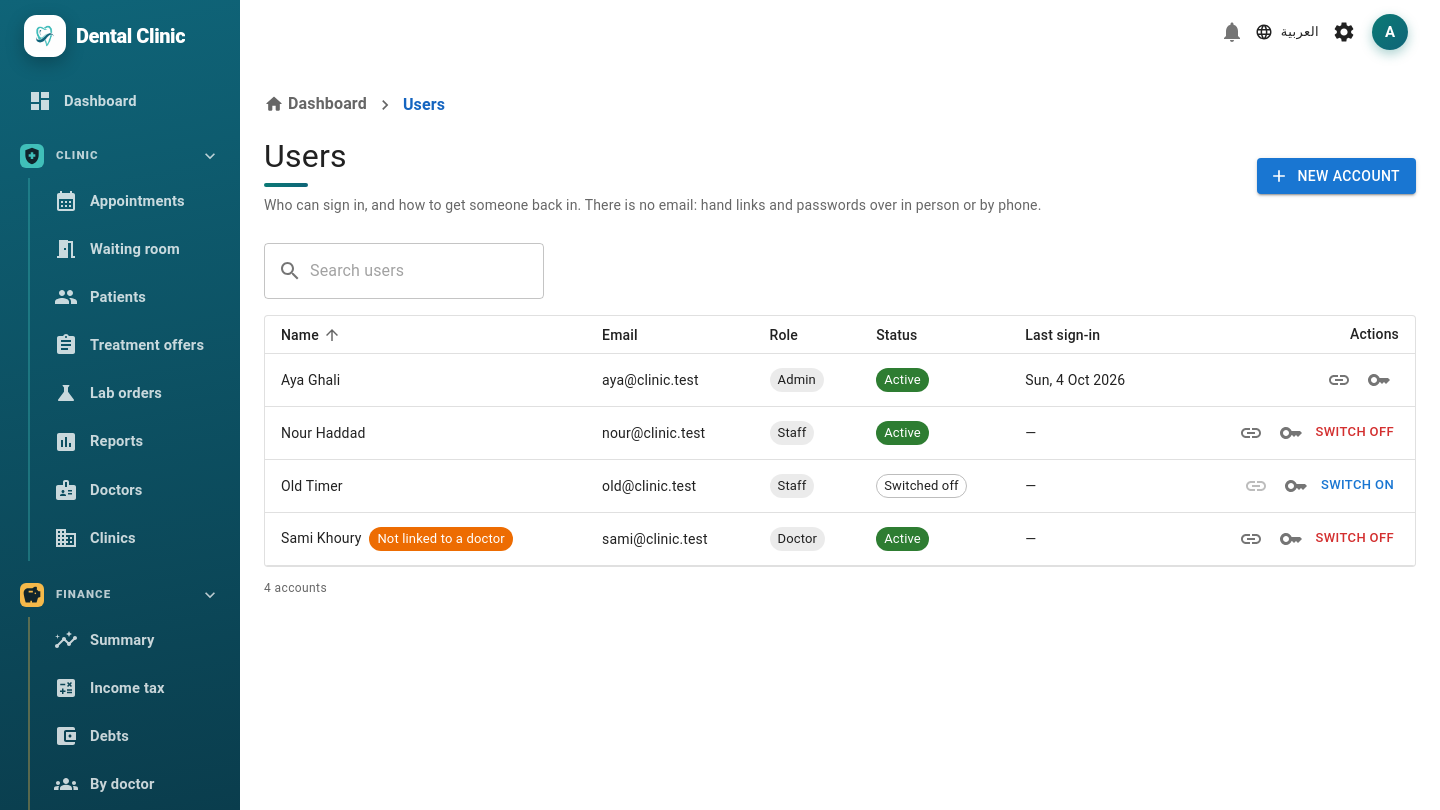
users page › creates an account and shows its temporary password
Click the button "New account".
click(1337, 176)  # box [1257, 158, 1416, 194]
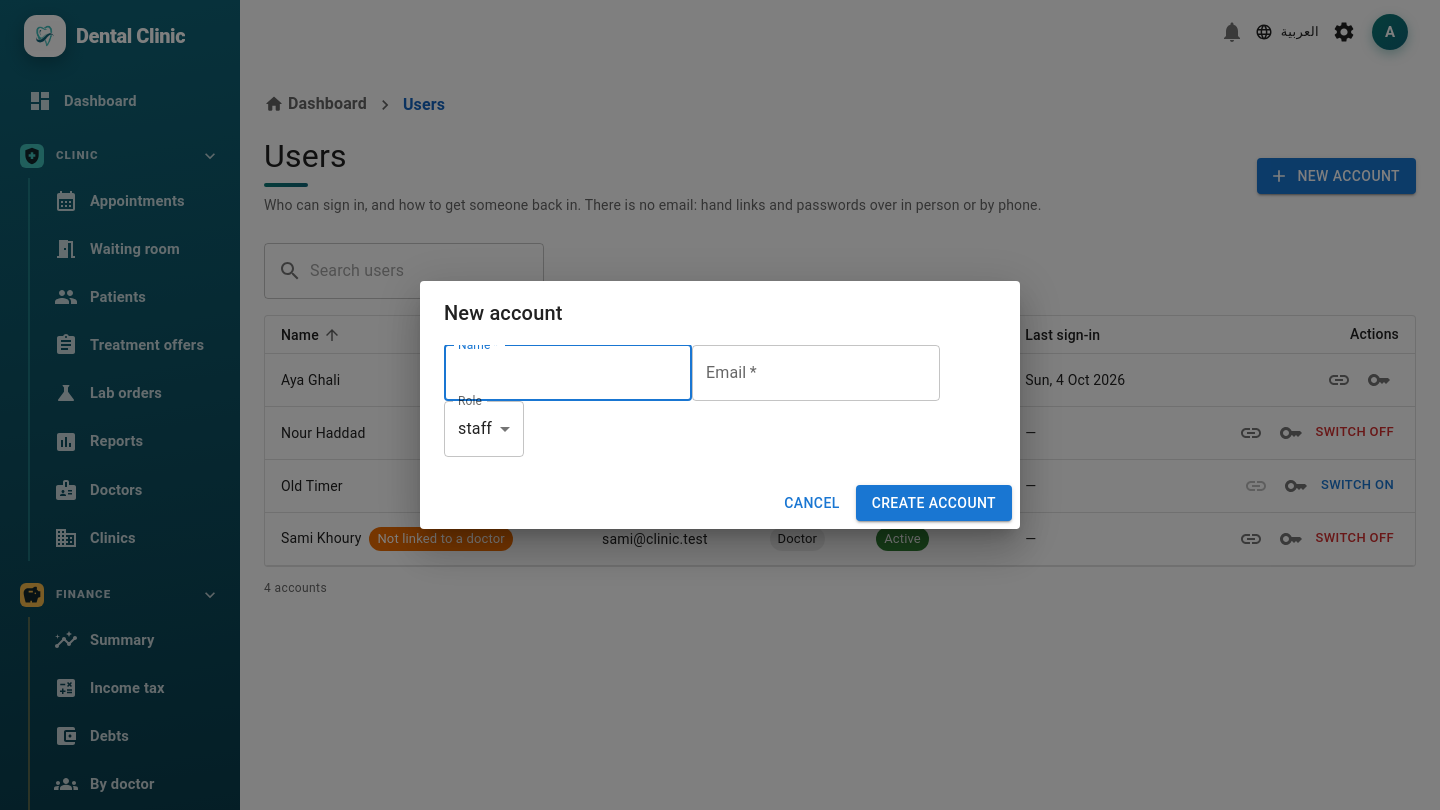
Type "Rana Saab" into the field labelled "Name *".
click(568, 373); type("Rana Saab")  # box [444, 345, 692, 401]
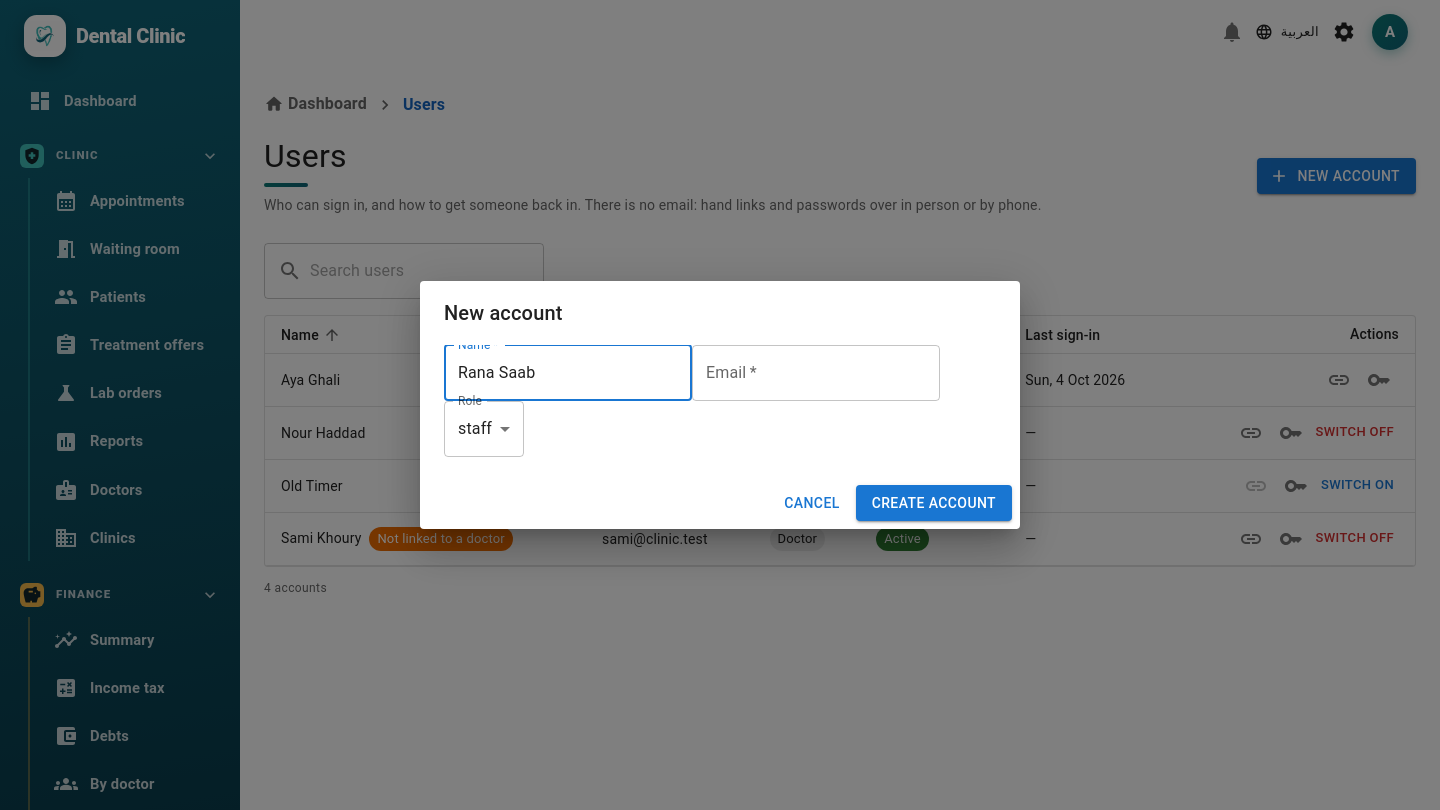
Type "rana@clinic.test" into the field labelled "Email *".
click(816, 373); type("rana@clinic.test")  # box [692, 345, 940, 401]
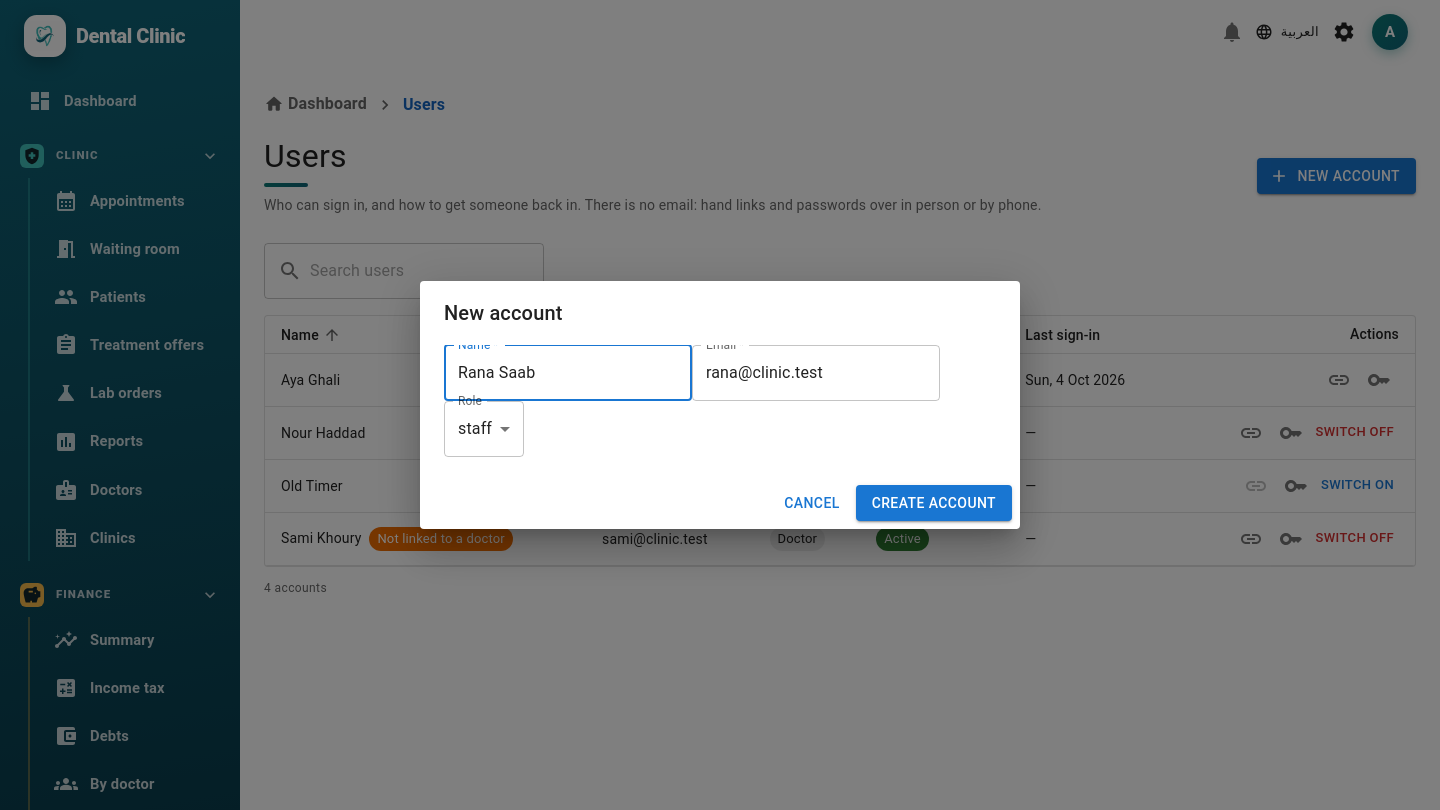
Click the button "Create account".
click(934, 503)  # box [856, 485, 1012, 521]
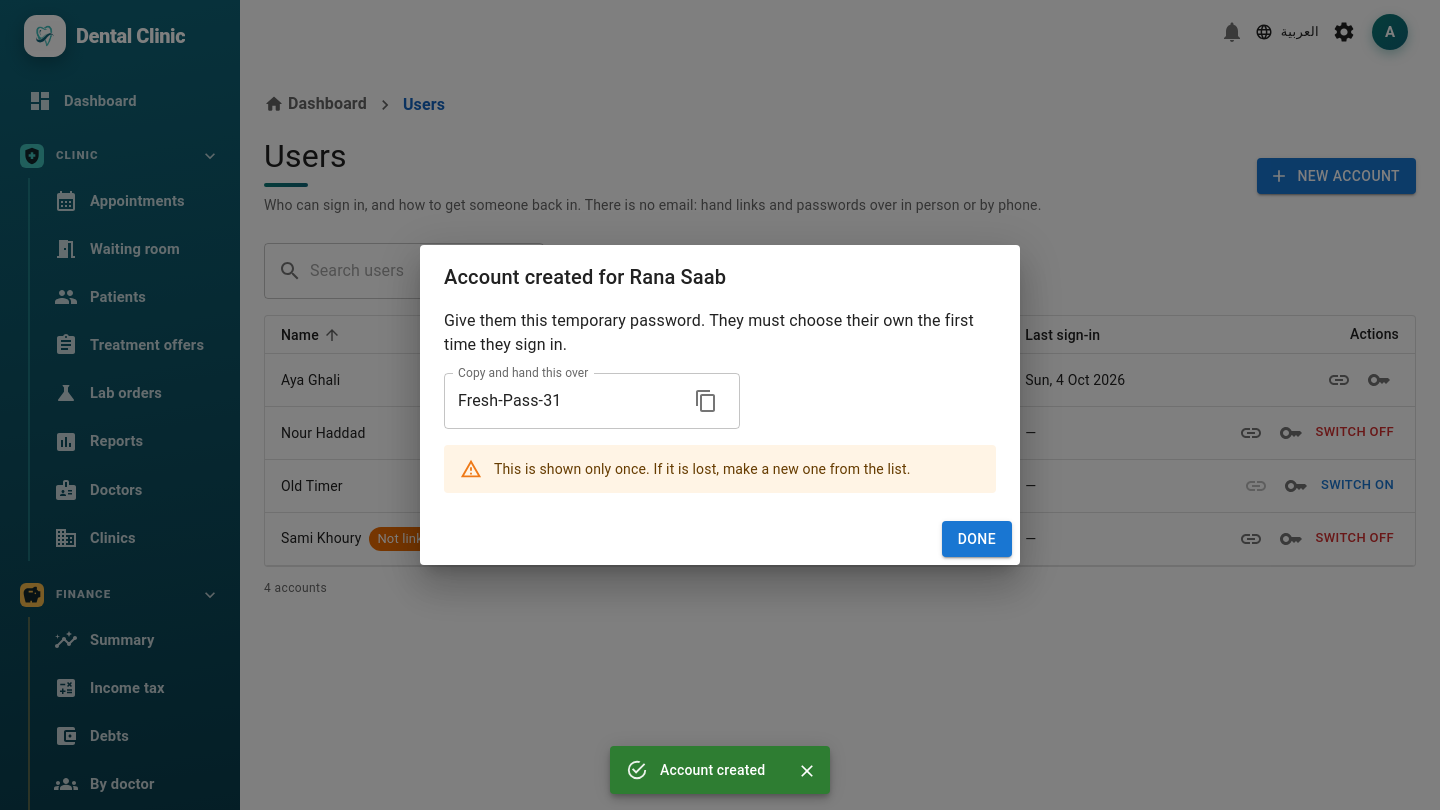
expect the field showing "Fresh-Pass-31" is shown: met, box [444, 373, 678, 429]
